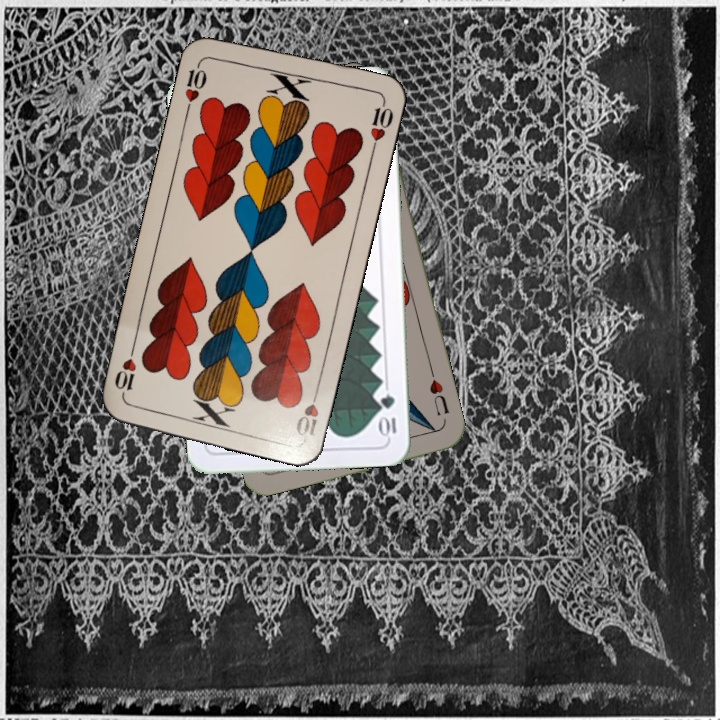G10: (377, 390, 399, 440)
H10: (291, 382, 322, 441), (181, 56, 210, 115)
HU: (425, 367, 452, 419)
